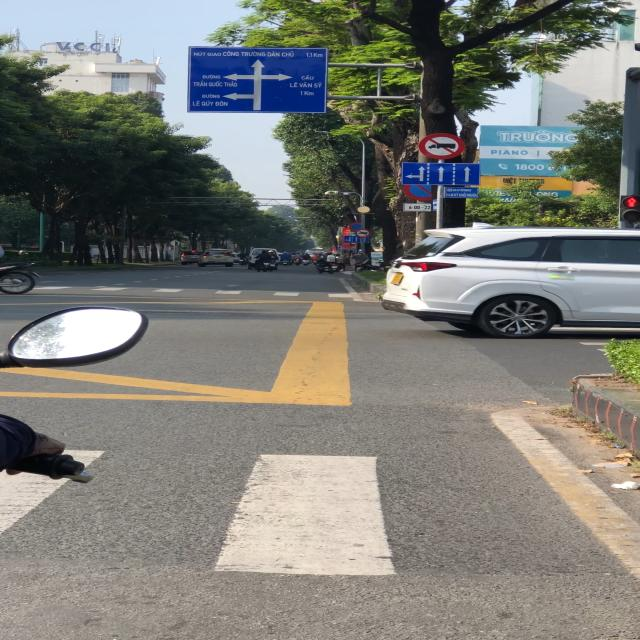Bien bao cam xe so-mi ro-mooc: (418, 132, 469, 160), (353, 228, 373, 238)
